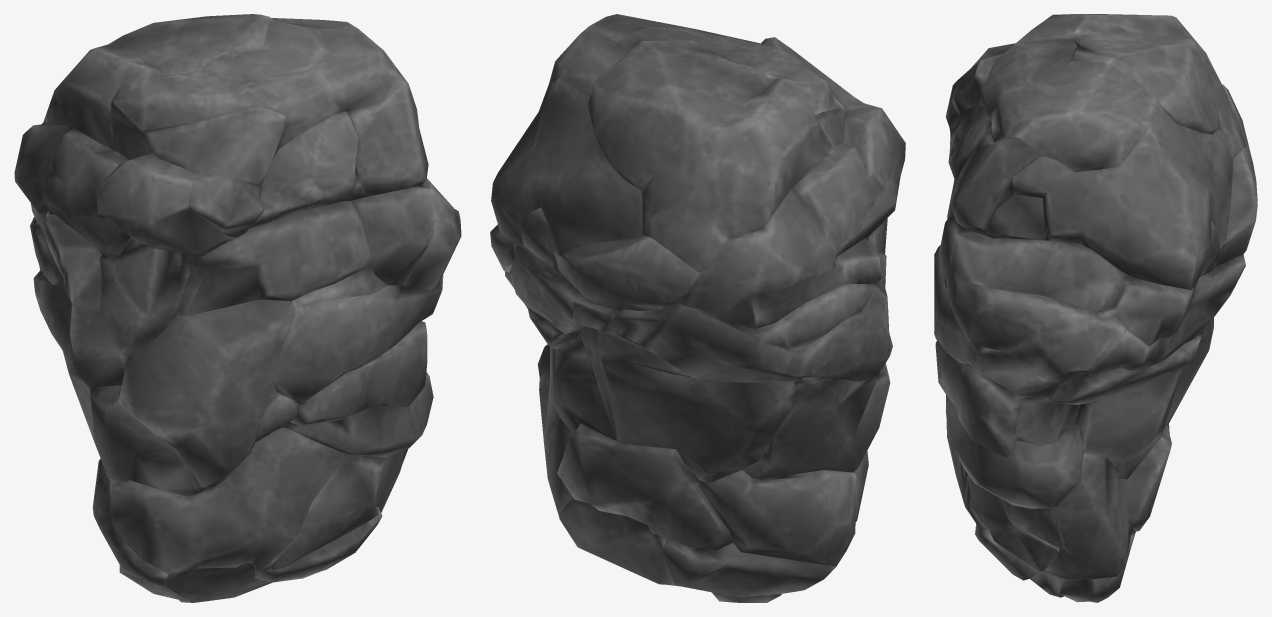
The model's file is quarry-face.lod0.glb.
The picture shows the model from 3 angles, left to right: view 1: azimuth 30°, elevation 25°; view 2: azimuth 150°, elevation 25°; view 3: azimuth 270°, elevation 25°; orthographic projection. The views are drawn at different scales.
Visible parts, largest first — view 1: ValleyGrayCliff_M_ValleyGrayCliff_0; view 2: ValleyGrayCliff_M_ValleyGrayCliff_0; view 3: ValleyGrayCliff_M_ValleyGrayCliff_0.
Part boxes in pixels (<box>): ValleyGrayCliff_M_ValleyGrayCliff_0: <box>14,14,461,602</box>; ValleyGrayCliff_M_ValleyGrayCliff_0: <box>490,14,905,602</box>; ValleyGrayCliff_M_ValleyGrayCliff_0: <box>934,14,1257,602</box>.
Size of the model in its own units: 13.96 by 20.43 by 11.14.
1 material, 1 textured.
